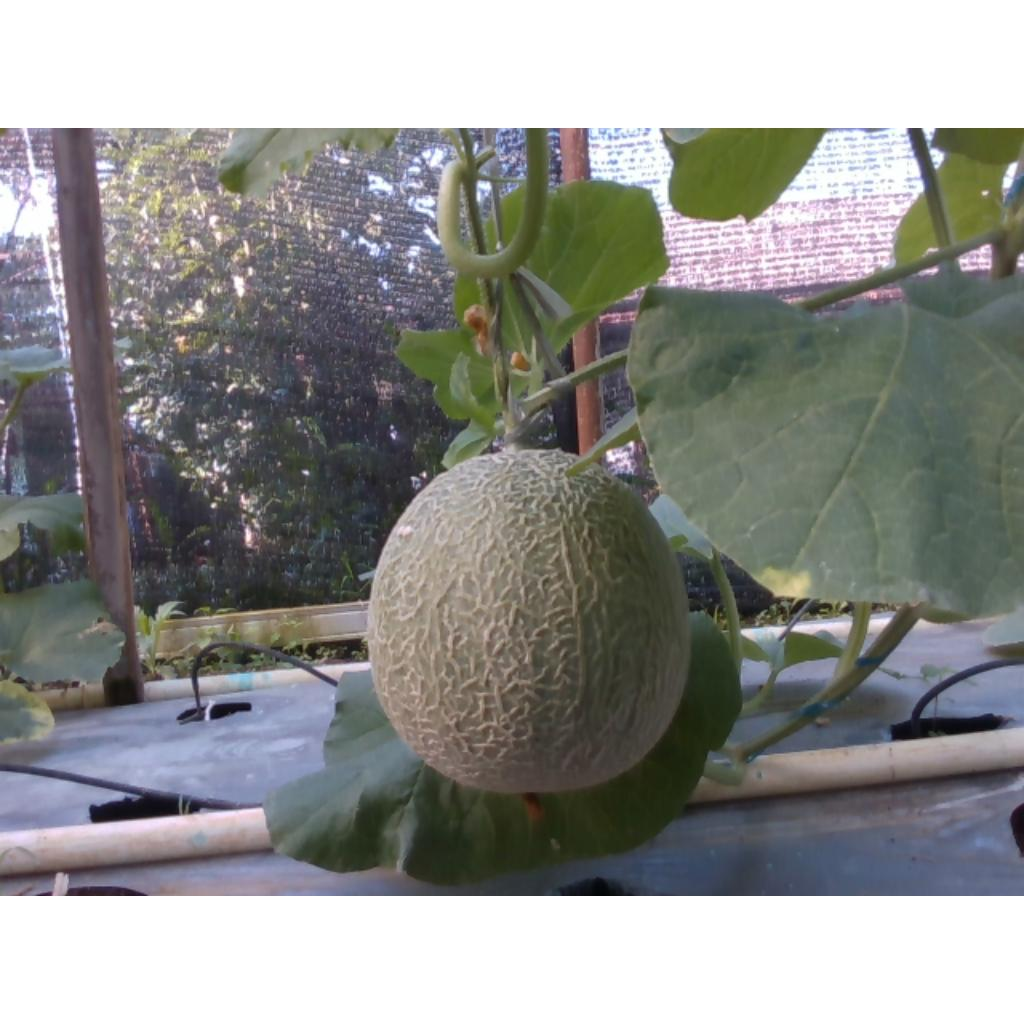melon: (370, 451, 691, 794)
